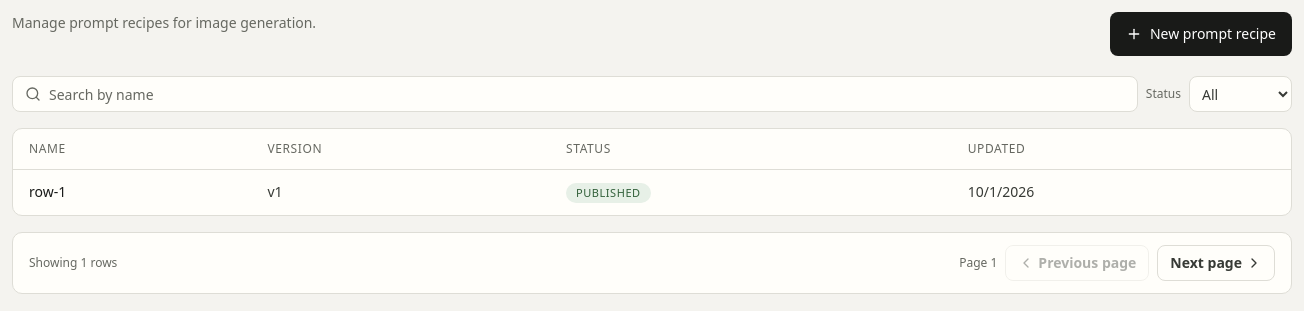
Scenario: Recipes forward cursor navigation › reads preceding pages after remounting through forward cursors and keeps adjacent URL state
Click the button "Next page" at [1216, 263], box top-left (1157, 245), bottom-right (1275, 281)
Wait 753 ms
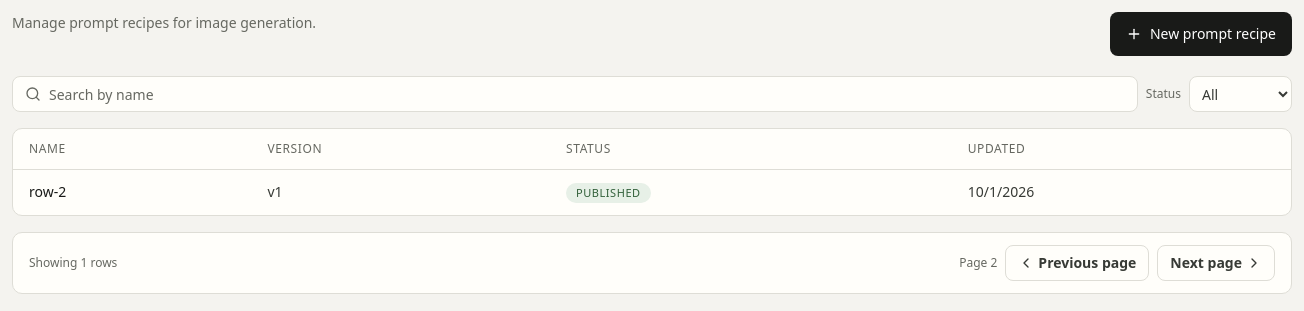
Click the button "Next page" at [1216, 263], box top-left (1157, 245), bottom-right (1275, 281)
Wait 1506 ms
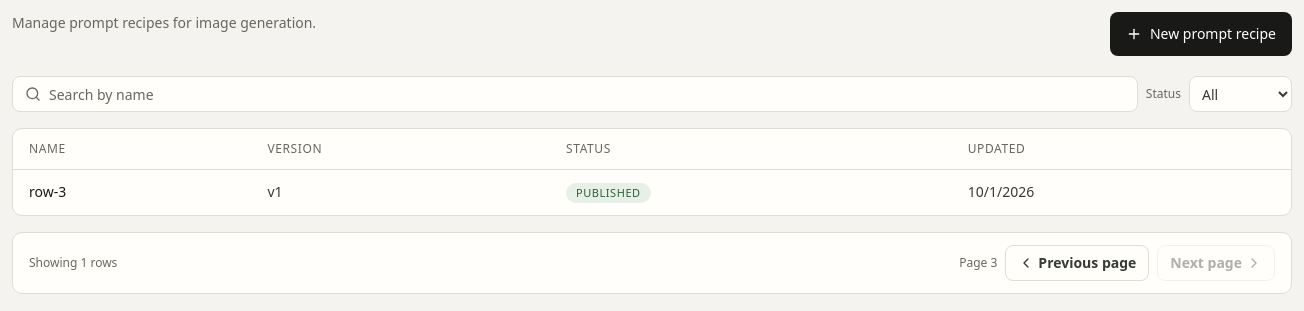
Result: the button "Previous page" is enabled
Result: the text "row-3" is shown at top-left (29, 182), bottom-right (66, 201)
Click the button "Previous page" at [1077, 263], box top-left (1005, 245), bottom-right (1149, 281)
Wait 753 ms
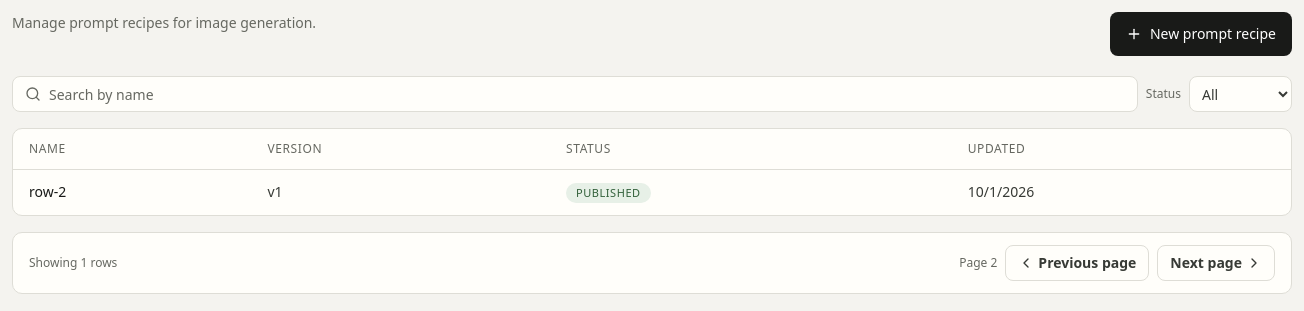
Result: the text "row-2" is shown at top-left (29, 182), bottom-right (66, 201)
Click the button "Previous page" at [1077, 263], box top-left (1005, 245), bottom-right (1149, 281)
Wait 753 ms
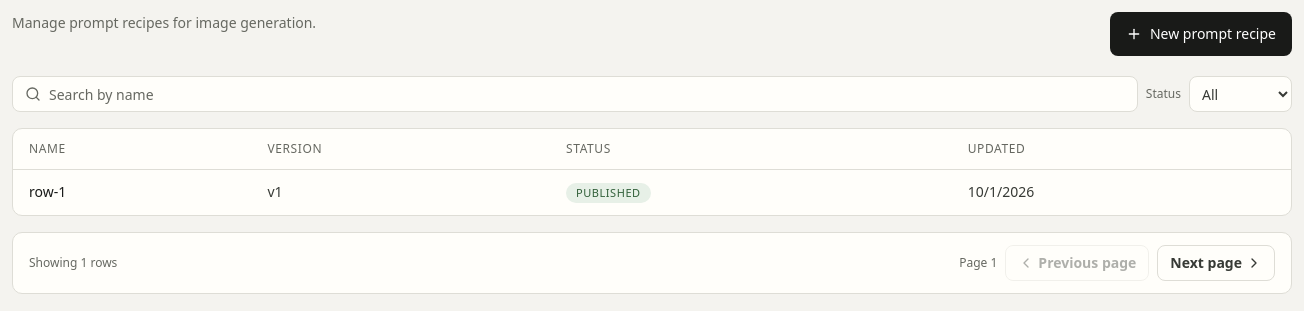
Result: the text "row-1" is shown at top-left (29, 182), bottom-right (66, 201)
Result: the button "Previous page" is disabled at top-left (1005, 245), bottom-right (1149, 281)
Result: the element with test id "admin-pagination" shows "Page 1" at top-left (959, 254), bottom-right (997, 271)
